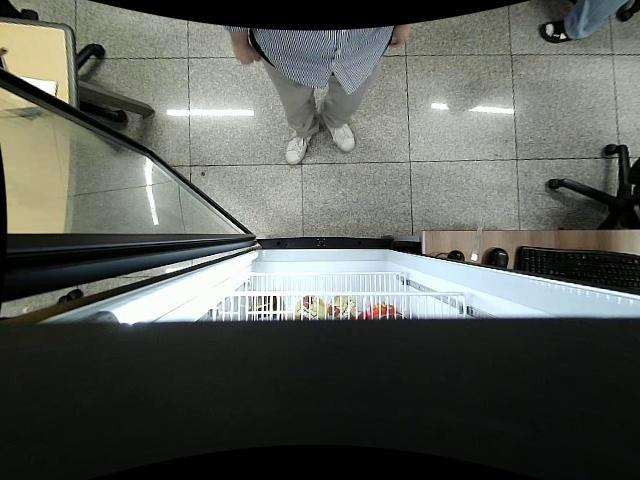00_hand: (227, 34, 261, 68), (386, 26, 412, 48)
